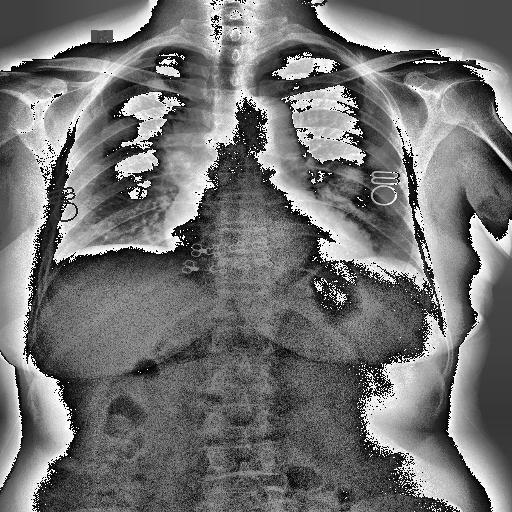0- Aortic enlargement: (238, 95, 299, 163), (241, 96, 297, 150), (240, 94, 294, 130)
3- Cardiomegaly: (162, 201, 376, 264), (164, 214, 374, 270), (162, 212, 376, 256)
7- Lung Opacity: (160, 106, 198, 187)
8- Nodule-Mass: (316, 155, 362, 204), (318, 158, 364, 202), (322, 163, 364, 201), (102, 115, 142, 149), (100, 118, 144, 148), (102, 118, 142, 146), (160, 150, 192, 174), (162, 120, 184, 142), (363, 152, 387, 168), (146, 77, 166, 92), (384, 201, 402, 216)
